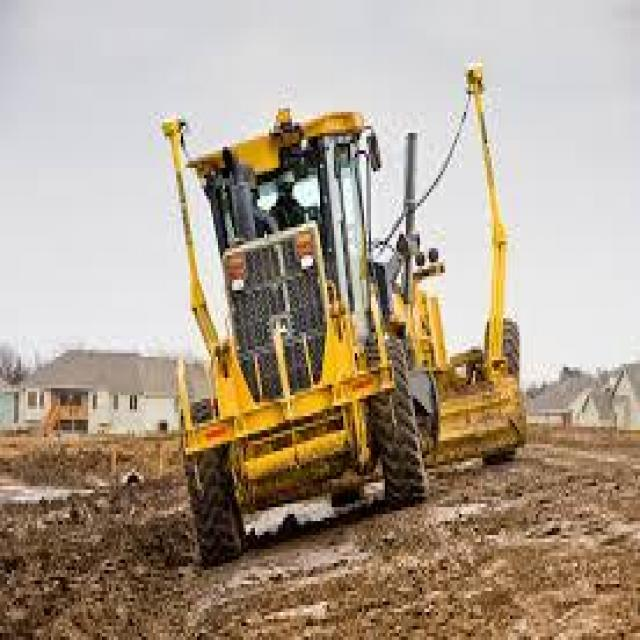Grader: (137, 63, 584, 535)
